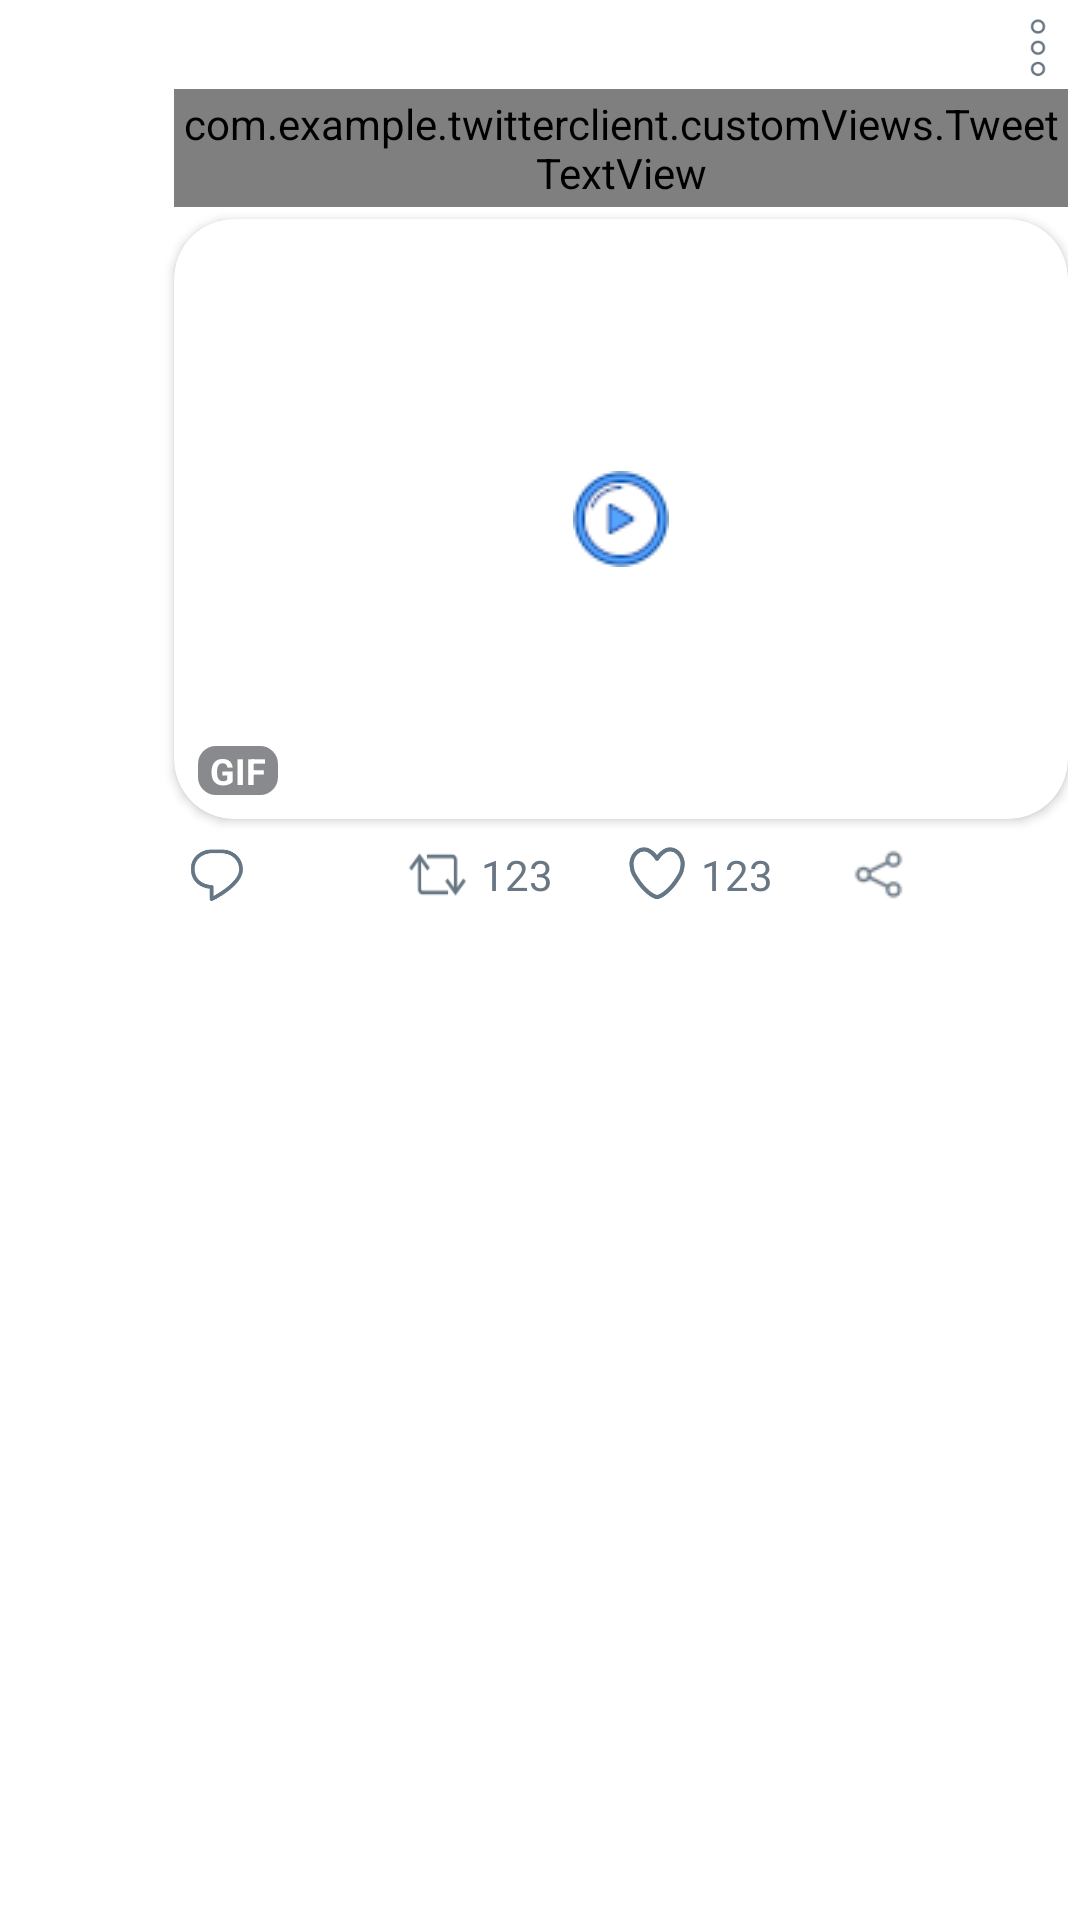

Screen size 1080 × 1920. Icon name, then its center in pixels as (x,y):
like: (657,873)
options: (1038,47)
play: (621,519)
reply: (217,875)
share: (878,874)
